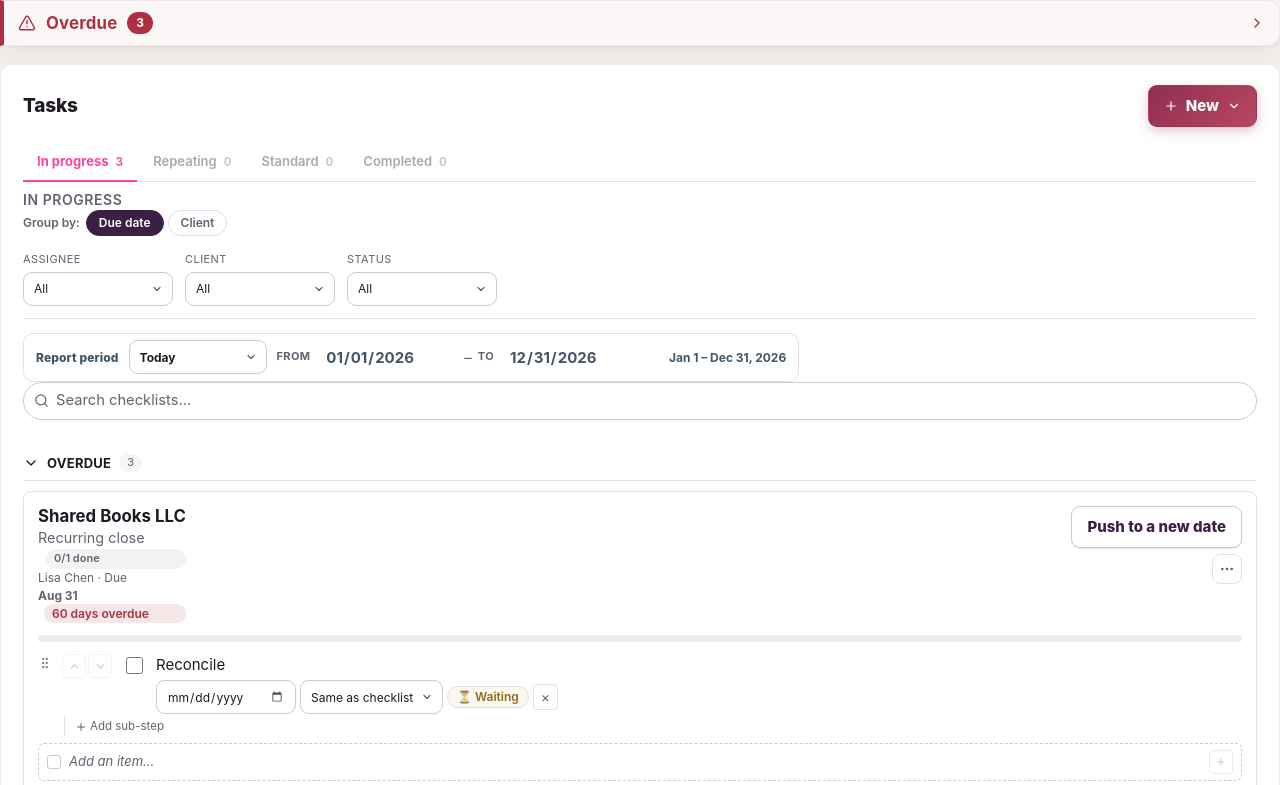
it: deleting a step on a recurring checklist › shows what the series delete did › reads without a count when there were no upcoming checklists to remove it from
Click the button named "Delete item": {"x": 545, "y": 697} [533,684,558,710]
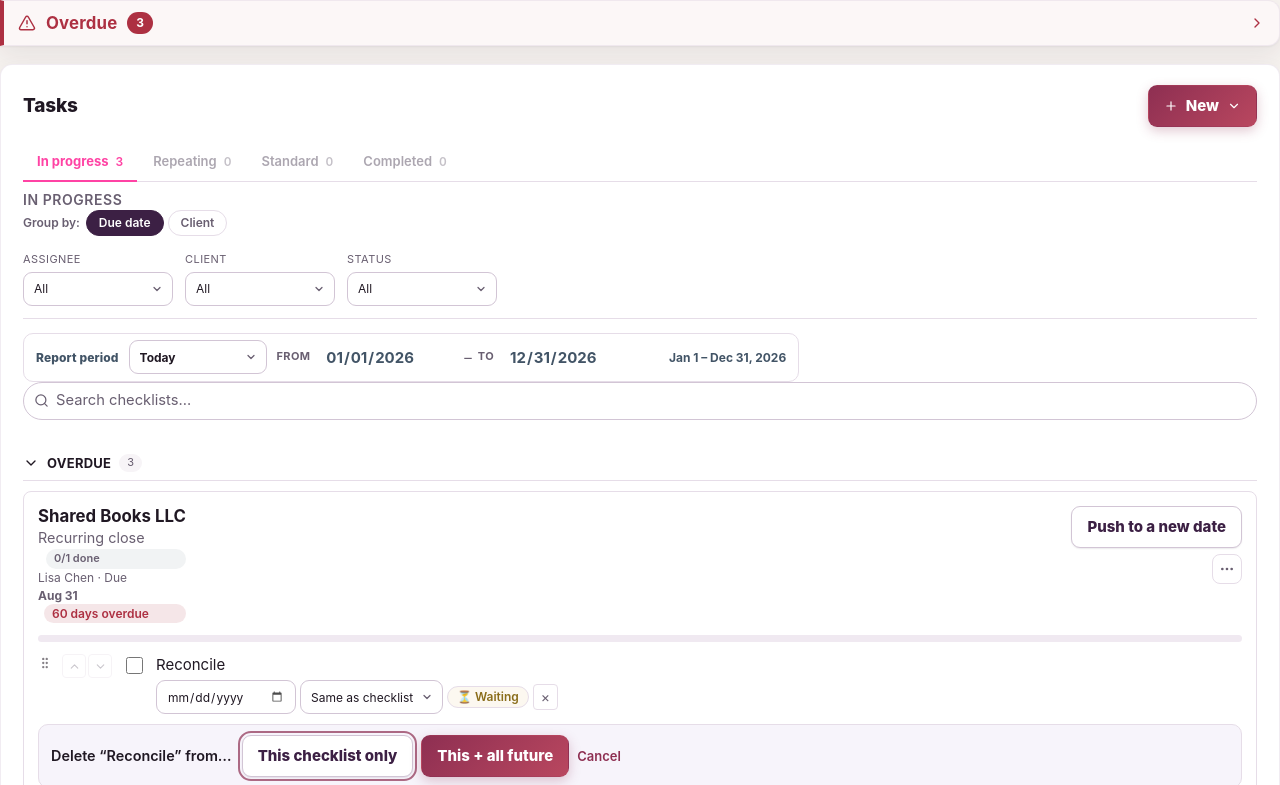
Click the button "This + all future": {"x": 495, "y": 756} [421,735,569,777]
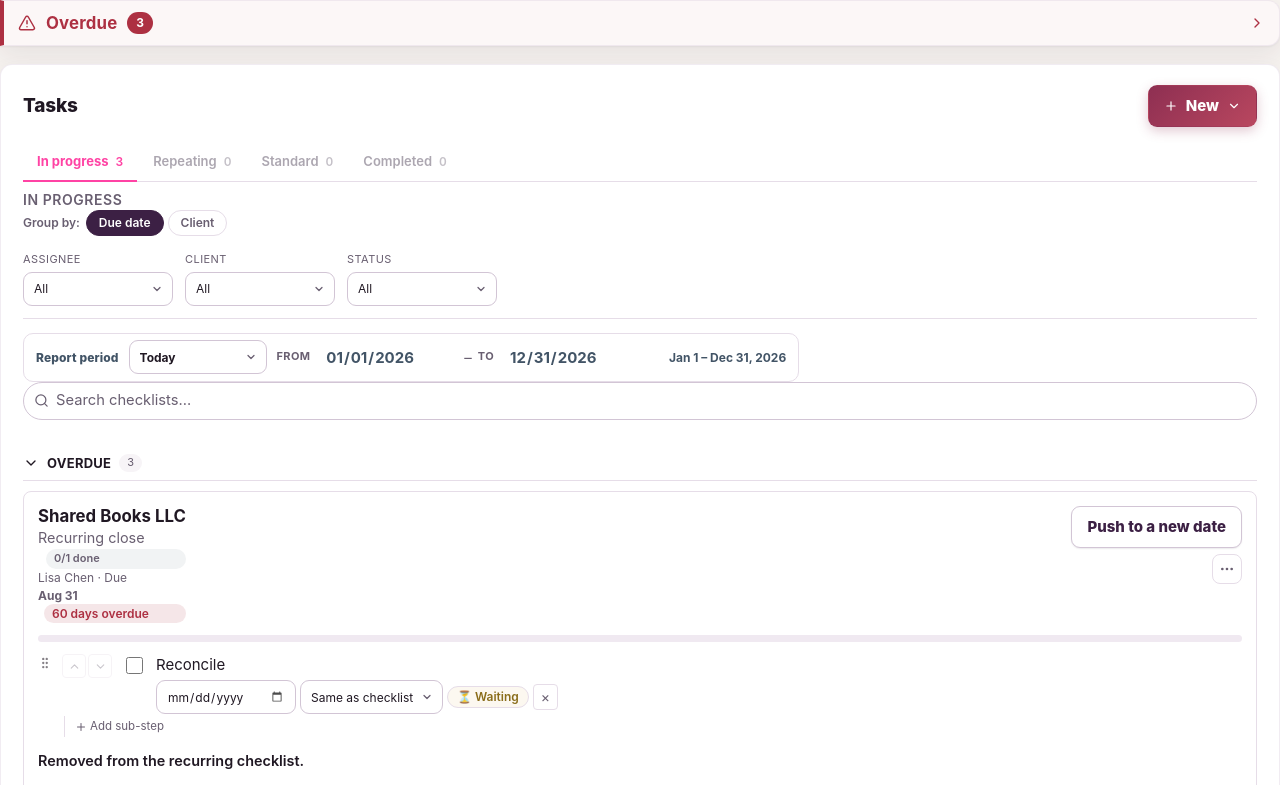
Expected: the message does not show "0 upcoming", [38,752,304,769]
Result: the message reads "Removed from the recurring checklist." at [38,752,304,769]
